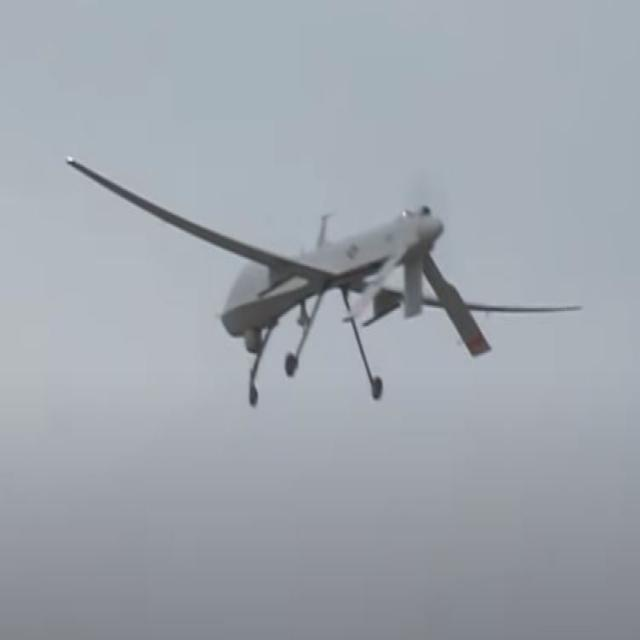iha: (67, 152, 579, 412)
